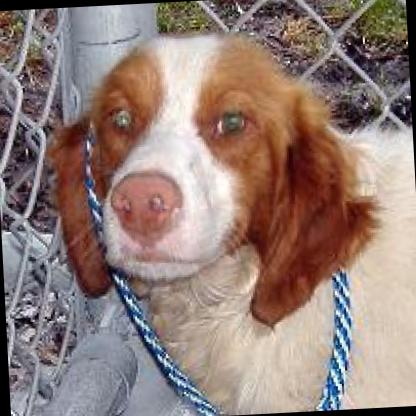Brittany_spaniel: (40, 16, 416, 416)
